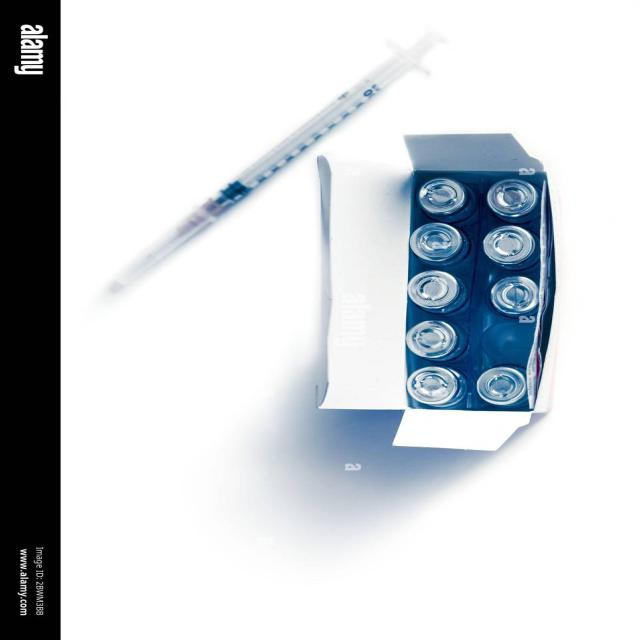vial: (415, 366, 454, 405), (410, 272, 454, 306), (483, 366, 522, 404), (413, 322, 455, 357), (420, 178, 459, 214), (492, 182, 534, 214), (418, 227, 457, 260), (494, 279, 534, 311), (490, 228, 530, 260)
